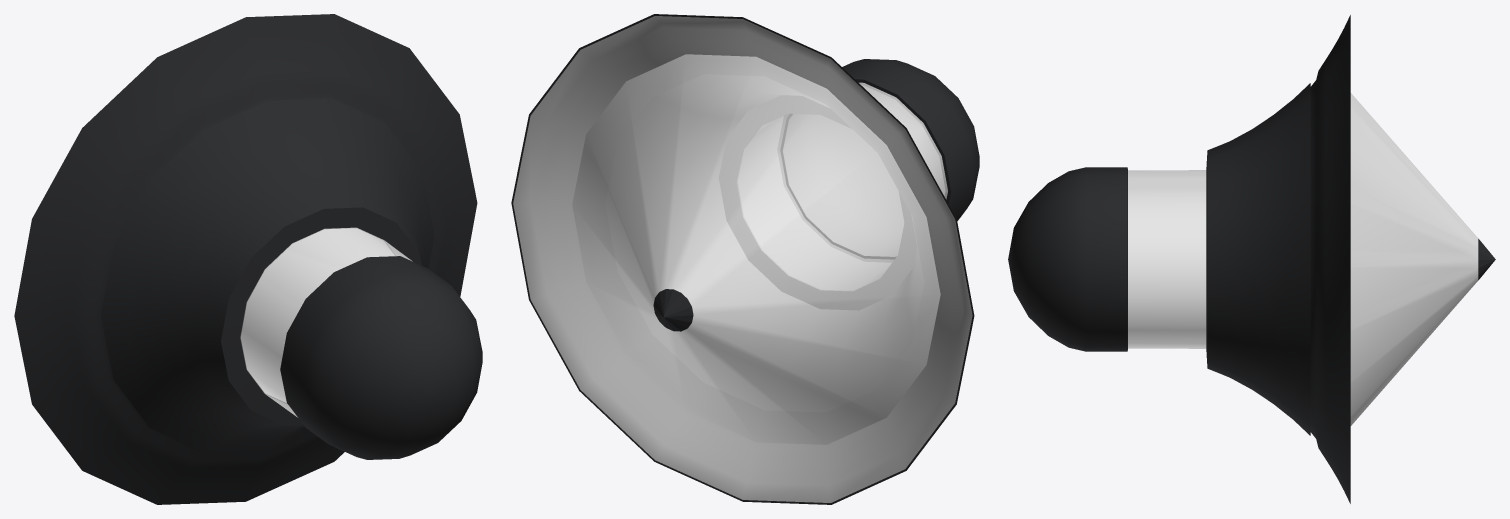
The model's file is Histo.obj.
3 views of the same model, side by side, from view 1: azimuth 30°, elevation 25°; view 2: azimuth 150°, elevation 25°; view 3: azimuth 270°, elevation 25° (orthographic). The views are drawn at different scales.
Parts seen in each view (by area): view 1: Leuchtenschirm.001_BezierCircle.002, Glas.001_BezierCurve; view 2: Leuchtenschirm.001_BezierCircle.002, Glas.001_BezierCurve; view 3: Leuchtenschirm.001_BezierCircle.002, Glas.001_BezierCurve.
Part boxes in pixels (box(x1,y1,x2,y2)): Leuchtenschirm.001_BezierCircle.002: box(14, 14, 482, 504); Glas.001_BezierCurve: box(240, 227, 412, 417); Leuchtenschirm.001_BezierCircle.002: box(511, 14, 979, 504); Glas.001_BezierCurve: box(572, 54, 947, 444); Leuchtenschirm.001_BezierCircle.002: box(1008, 15, 1495, 503); Glas.001_BezierCurve: box(1128, 93, 1478, 425).
Bounding box in the file's own units: 0.5465 × 0.5465 × 0.5424.
